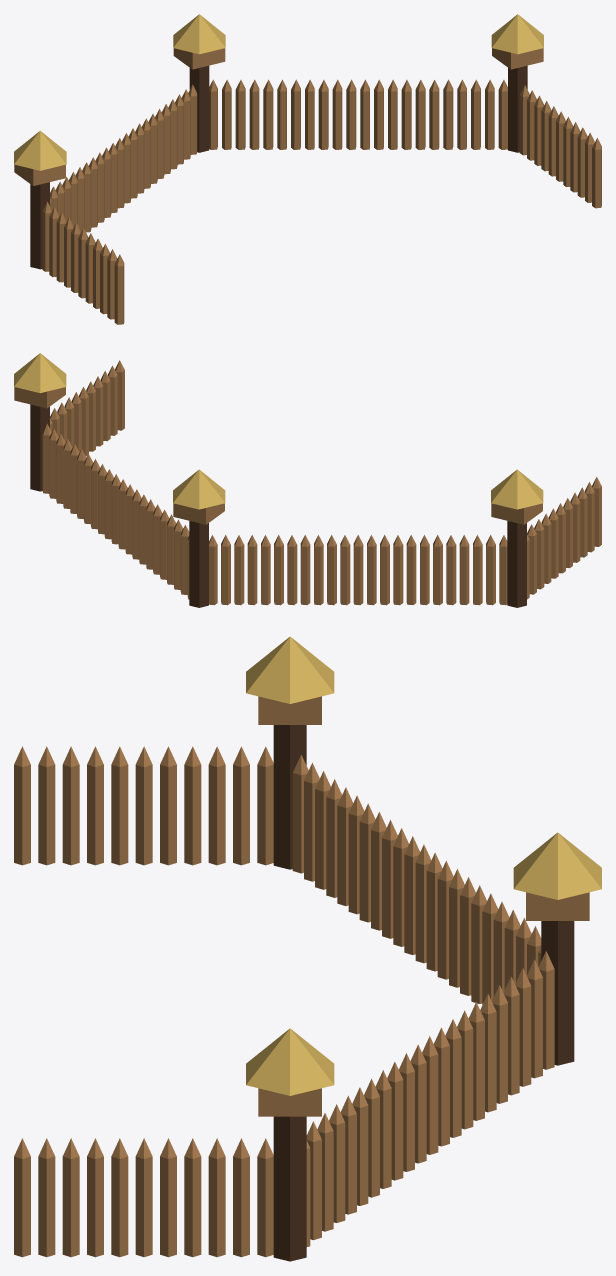
The model's file is walls_0_back.fbx.
The picture shows the model from 3 angles, top to bottom: view 1: azimuth 30°, elevation 25°; view 2: azimuth 150°, elevation 25°; view 3: azimuth 270°, elevation 25°; orthographic projection. The views are drawn at different scales.
Parts seen in each view (by area): view 1: walls_0_back; view 2: walls_0_back; view 3: walls_0_back.
Boxes of the visible parts, x1=… form: walls_0_back: x1=14, y1=14, x2=601, y2=324; walls_0_back: x1=14, y1=353, x2=601, y2=607; walls_0_back: x1=14, y1=636, x2=601, y2=1261.
Size of the model in its own units: 161 by 39 by 92.26.
